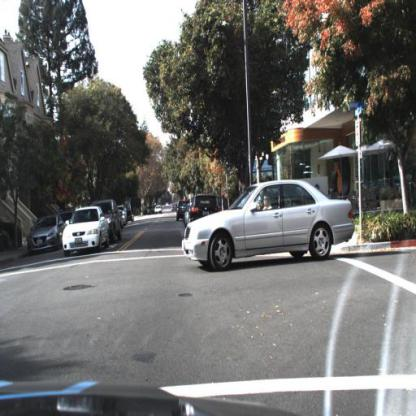car: (180, 178, 357, 272), (62, 205, 111, 258), (28, 212, 66, 257), (103, 200, 121, 244), (176, 198, 188, 214), (155, 206, 163, 215)
